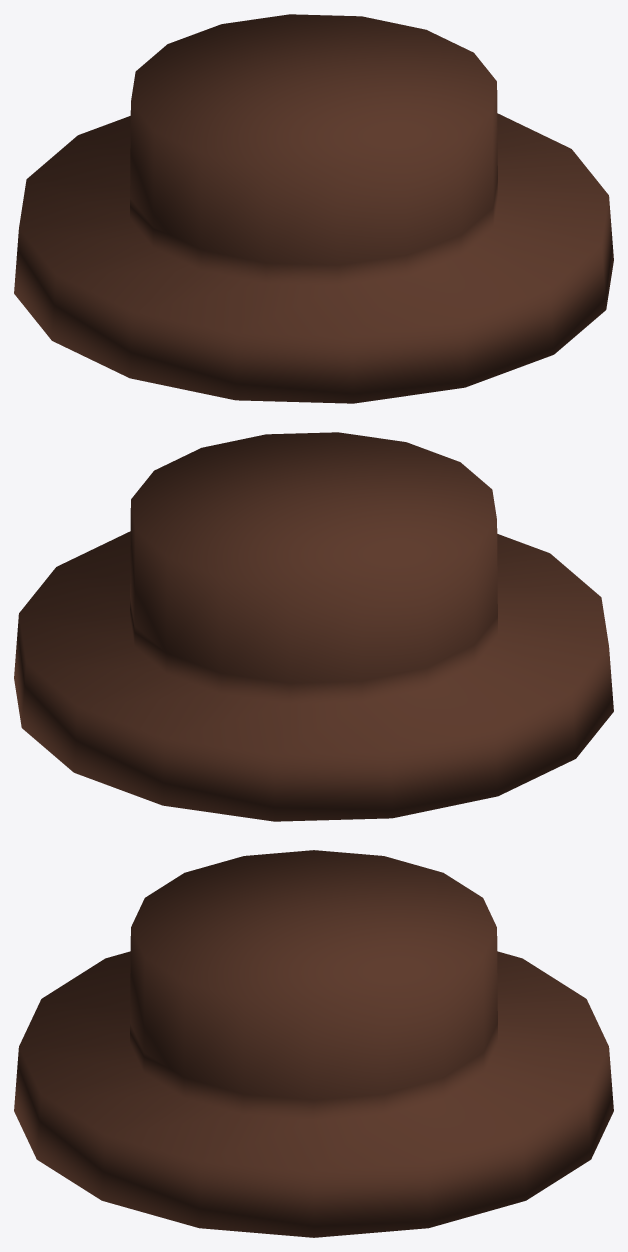
The model's file is Hat1.fbx.
The picture shows the model from 3 angles, top to bottom: view 1: azimuth 30°, elevation 25°; view 2: azimuth 150°, elevation 25°; view 3: azimuth 270°, elevation 25°; orthographic projection.
Parts seen in each view (by area): view 1: Circle; view 2: Circle; view 3: Circle.
Boxes of the visible parts, x1,y1,x2,y2 form: Circle: (14, 14, 613, 403); Circle: (14, 432, 613, 821); Circle: (14, 850, 613, 1237).
Bounding box in the file's own units: 135 × 45.69 × 135.
